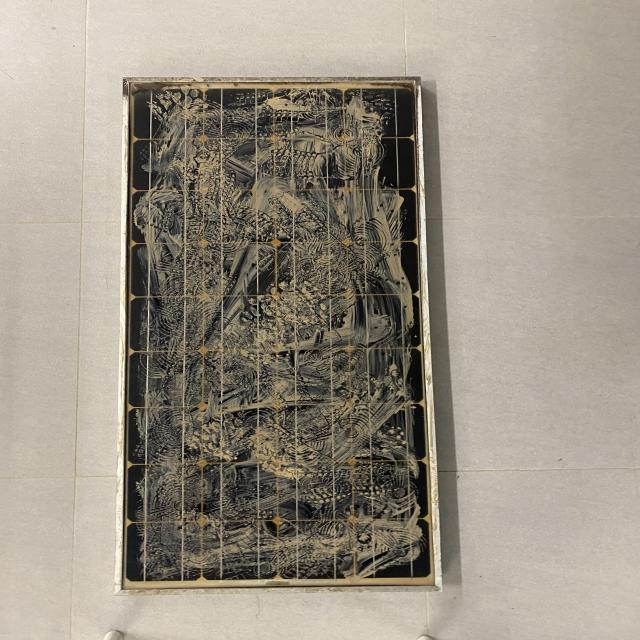Anomaly Solar Panel: (126, 79, 434, 586)
Surface Contaminant: (125, 93, 429, 583)
